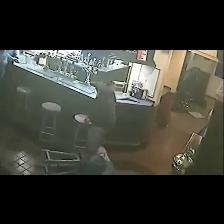person: (85, 77, 116, 150)
